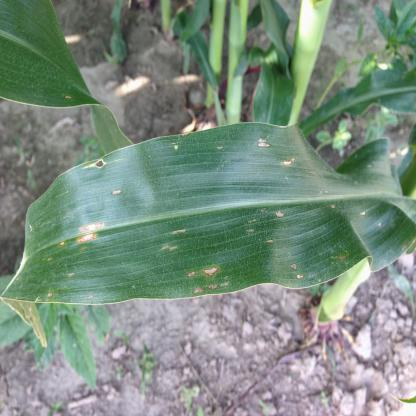Corn leaf blight: (3, 131, 416, 304)
